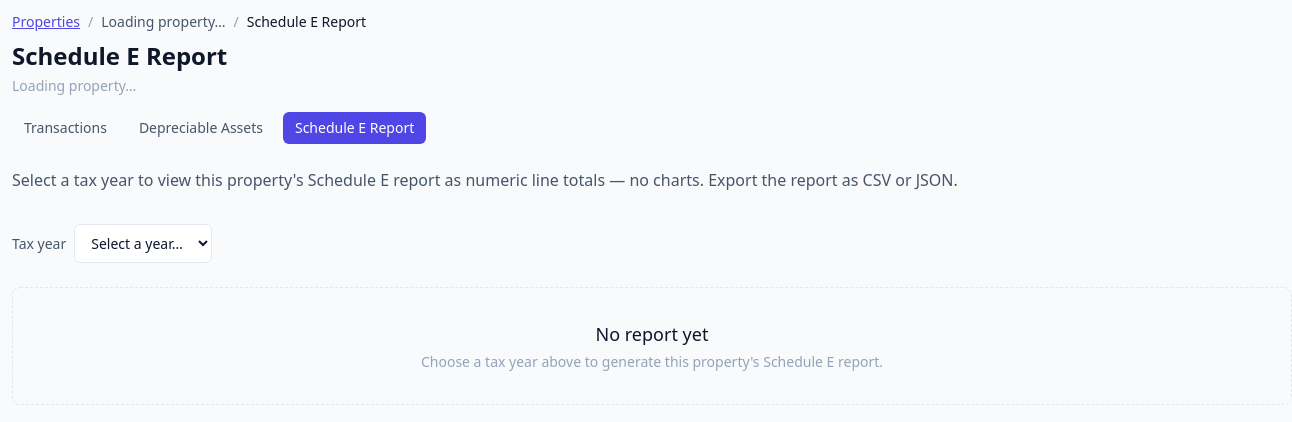
Scenario: ReportsPage — year selection fetches and renders (Req 10.1-10.5) › surfaces an error message when the fetch fails
This screenshot has width=1292, height=422.
Select "2024" in the dropdown labelled "Tax year" at (143, 244), box [74, 224, 212, 263]
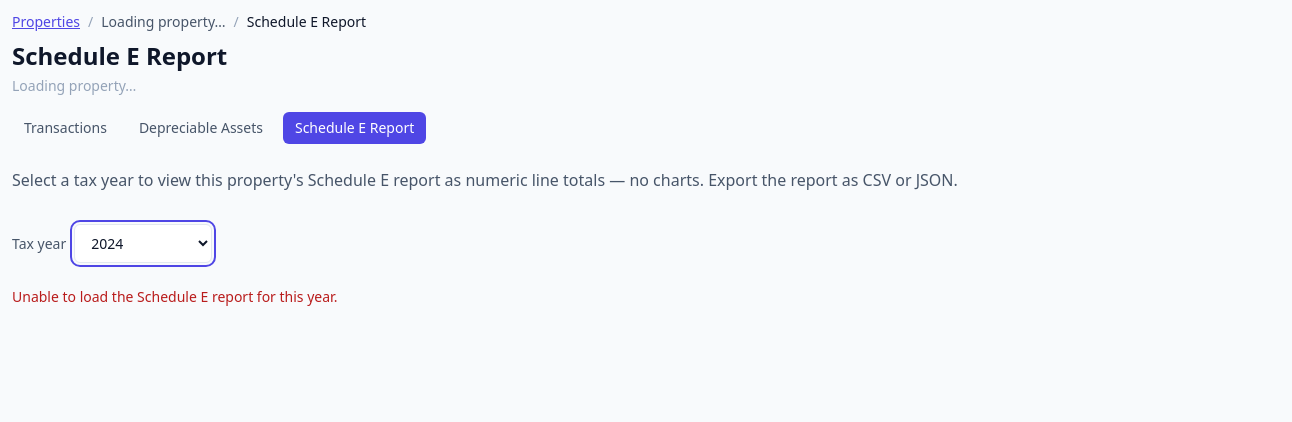
Expected: the message shows "Unable to load the Schedule E report", [12, 287, 337, 306]
